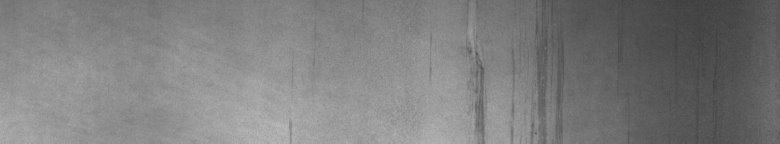ka: (466, 28, 562, 136)
